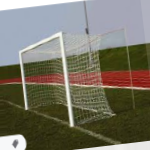goals: (17, 28, 117, 127)
